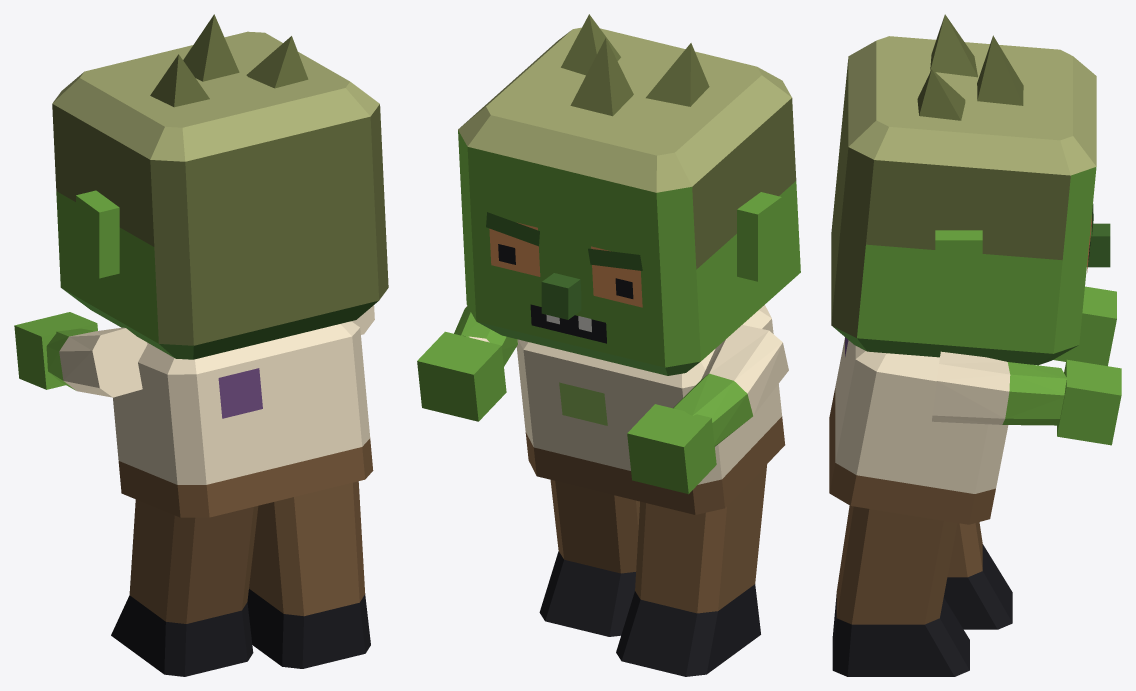
File: enm_walker.glb
The picture shows the model from 3 angles, left to right: view 1: azimuth 30°, elevation 25°; view 2: azimuth 150°, elevation 25°; view 3: azimuth 270°, elevation 25°; orthographic projection.
Visible parts, largest first — view 1: enm_walker; view 2: enm_walker; view 3: enm_walker.
Boxes of the visible parts, bbox=[...] form: enm_walker: bbox=[14, 14, 388, 676]; enm_walker: bbox=[417, 14, 800, 676]; enm_walker: bbox=[829, 14, 1121, 676].
Size of the model in its own units: 0.8262 by 1.7 by 0.7484.
1 material, 1 textured.
